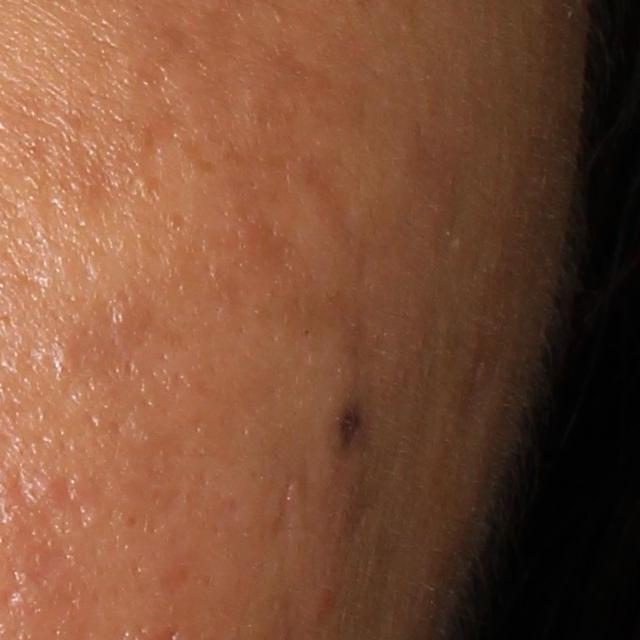atrophic_scar: (273, 471, 298, 535)
comedo: (45, 328, 87, 388)
nevus: (337, 399, 370, 454)
